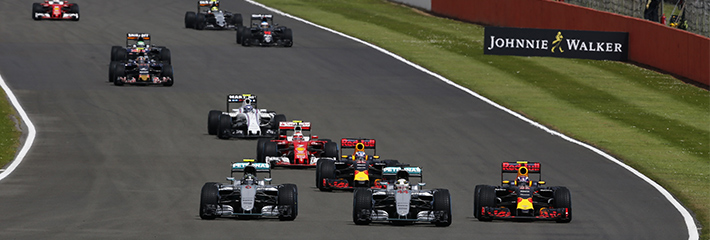race car: (197, 158, 300, 223), (349, 165, 452, 229), (472, 160, 573, 223), (314, 137, 404, 193), (257, 120, 340, 171), (206, 92, 286, 140), (108, 50, 174, 88), (109, 32, 172, 68), (236, 12, 295, 49), (183, 1, 244, 33), (30, 1, 82, 23)
